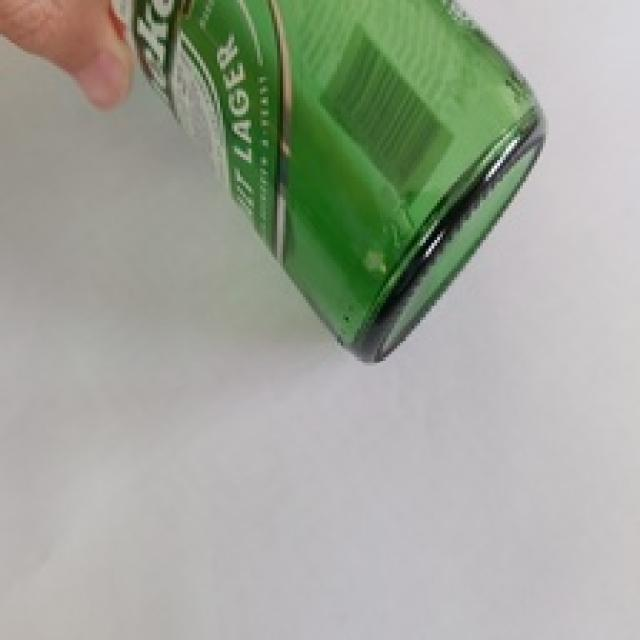Glass: (111, 0, 551, 368)
